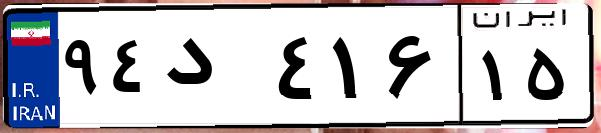1: (330, 28, 385, 110), (475, 38, 525, 113)
4: (270, 28, 330, 110), (110, 28, 158, 98)
5: (525, 38, 570, 115)
6: (385, 28, 445, 110)
9: (57, 26, 110, 100)
د: (158, 20, 270, 120)
